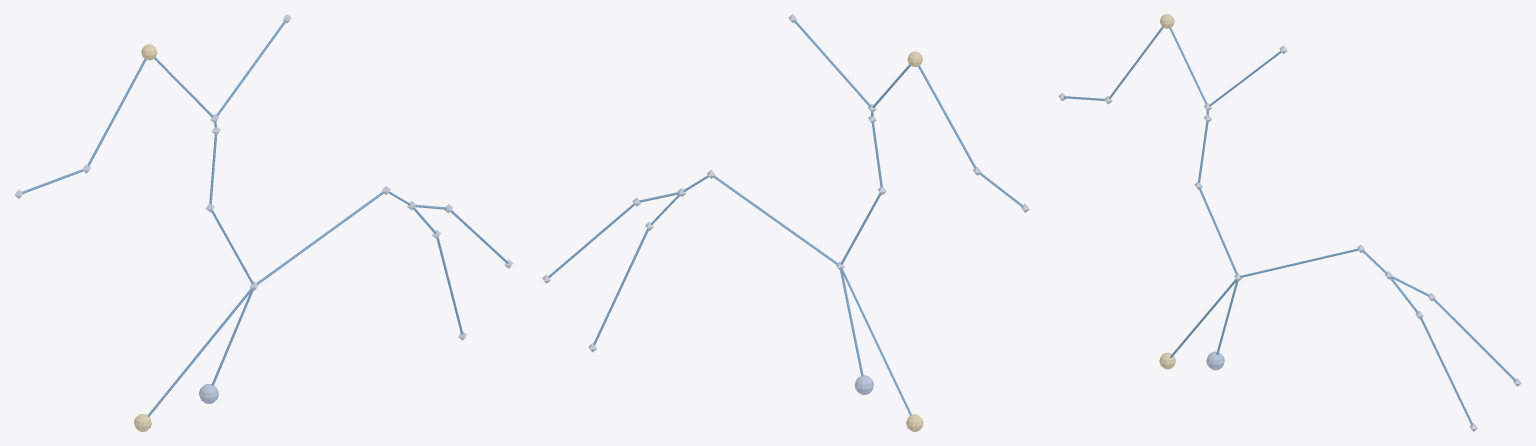
Rendered from constellation-cen.glb.
3 views of the same model, side by side, from view 1: azimuth 30°, elevation 25°; view 2: azimuth 150°, elevation 25°; view 3: azimuth 330°, elevation 25° (orthographic). The views are drawn at different scales.
Bounding box in the file's own units: 3.66 × 2.73 × 0.3747.
